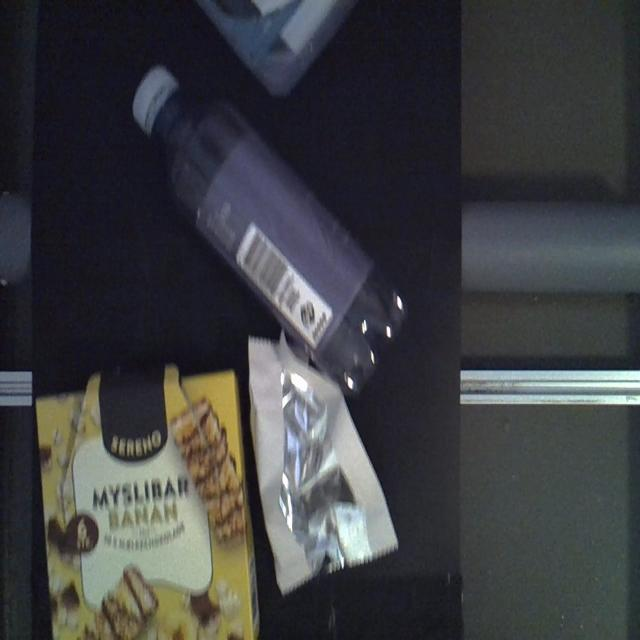bottle-plastic: (128, 58, 409, 399)
carton: (33, 358, 261, 636)
mixed-plastics: (192, 0, 365, 96)
packaging-soft-plastic: (245, 331, 400, 596)
